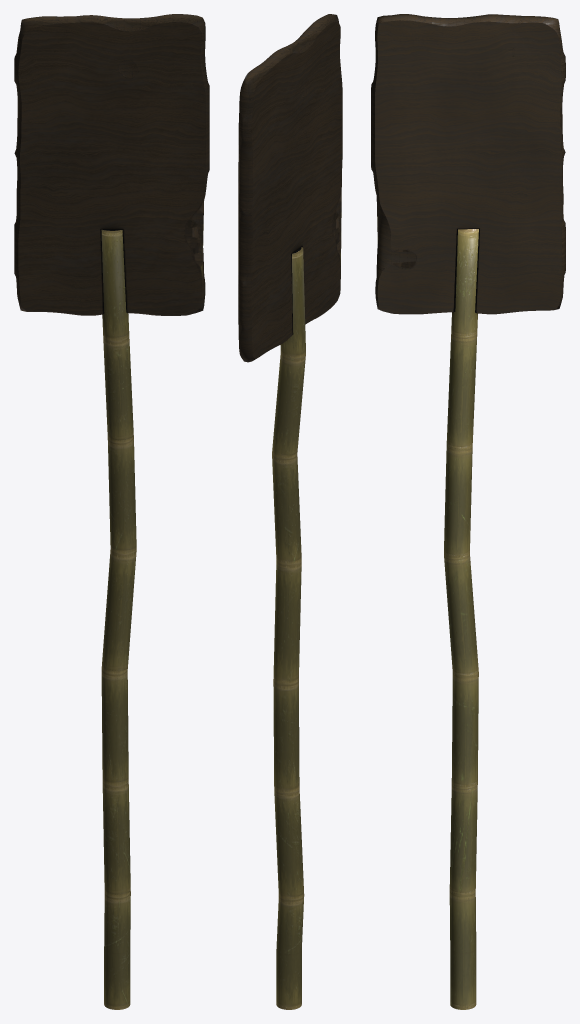
Rendered from mato4.fbx.
The picture shows the model from 3 angles, left to right: view 1: azimuth 90°, elevation 25°; view 2: azimuth 150°, elevation 25°; view 3: azimuth 270°, elevation 25°; orthographic projection. The views are drawn at different scales.
Visible parts, largest first — view 1: mato4; view 2: mato4; view 3: mato4.
Boxes of the visible parts, x1,y1,x2,y2 form: mato4: (14, 14, 209, 1009); mato4: (238, 14, 342, 1009); mato4: (371, 14, 565, 1009).
Bounding box in the file's own units: 0.0975 × 2.72 × 0.4866.
1 material, 1 textured.
